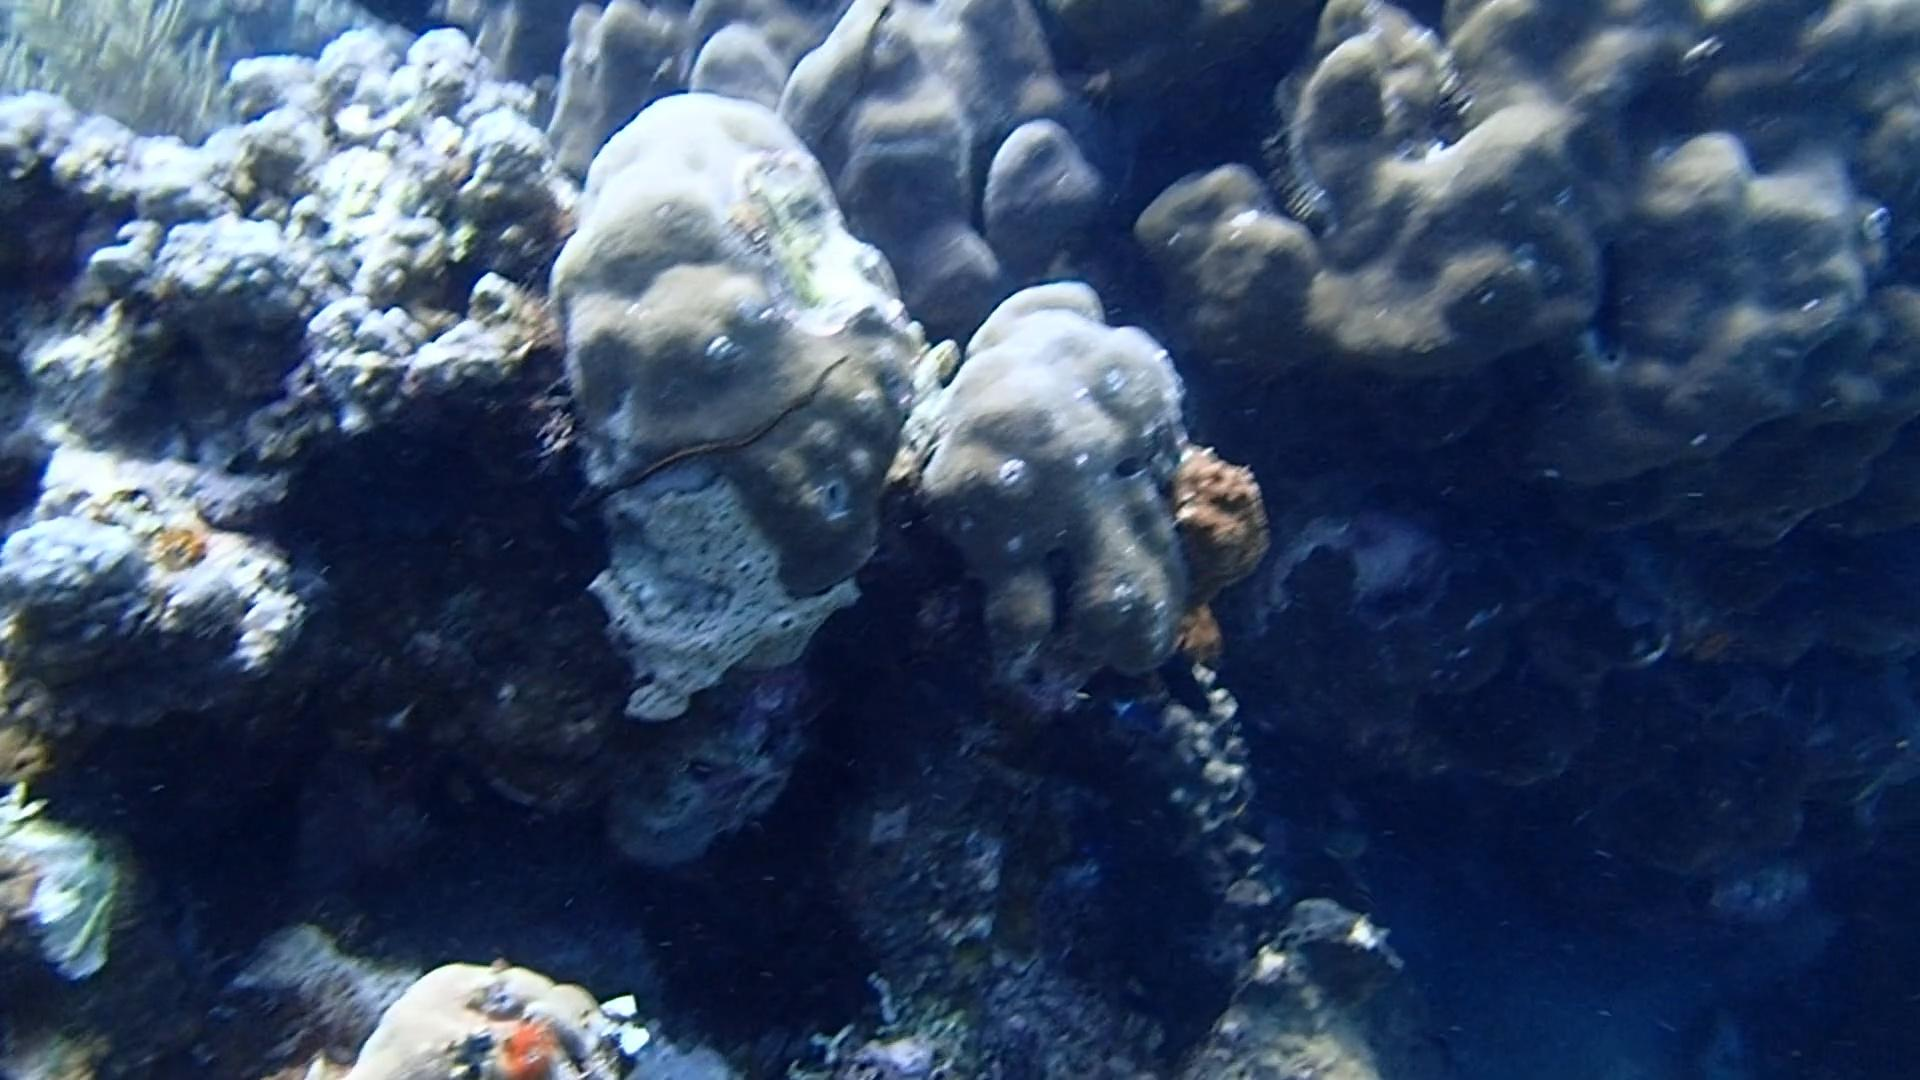Dark Fish: (1142, 647, 1225, 733)
